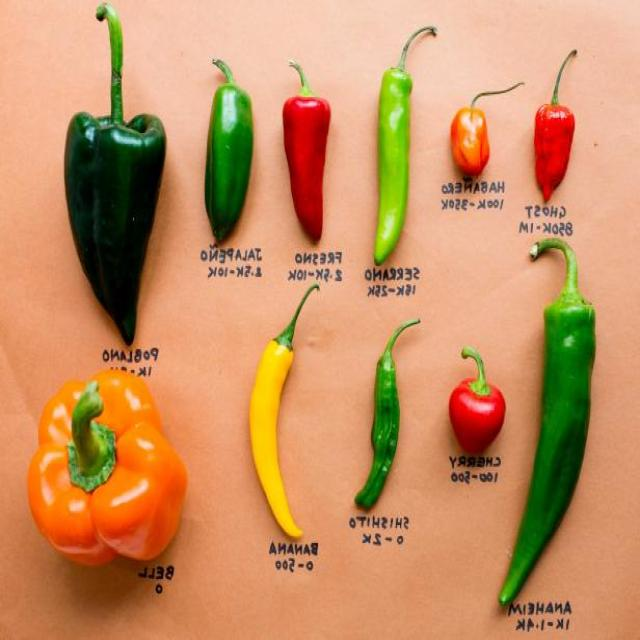Bell pepper: (27, 364, 185, 592)
Chilli Pepper: (479, 228, 611, 622), (48, 7, 178, 341), (242, 274, 334, 561), (355, 18, 444, 276), (343, 301, 427, 530), (271, 49, 352, 263), (444, 55, 527, 220), (193, 43, 257, 246), (440, 330, 514, 468), (530, 44, 588, 216)
